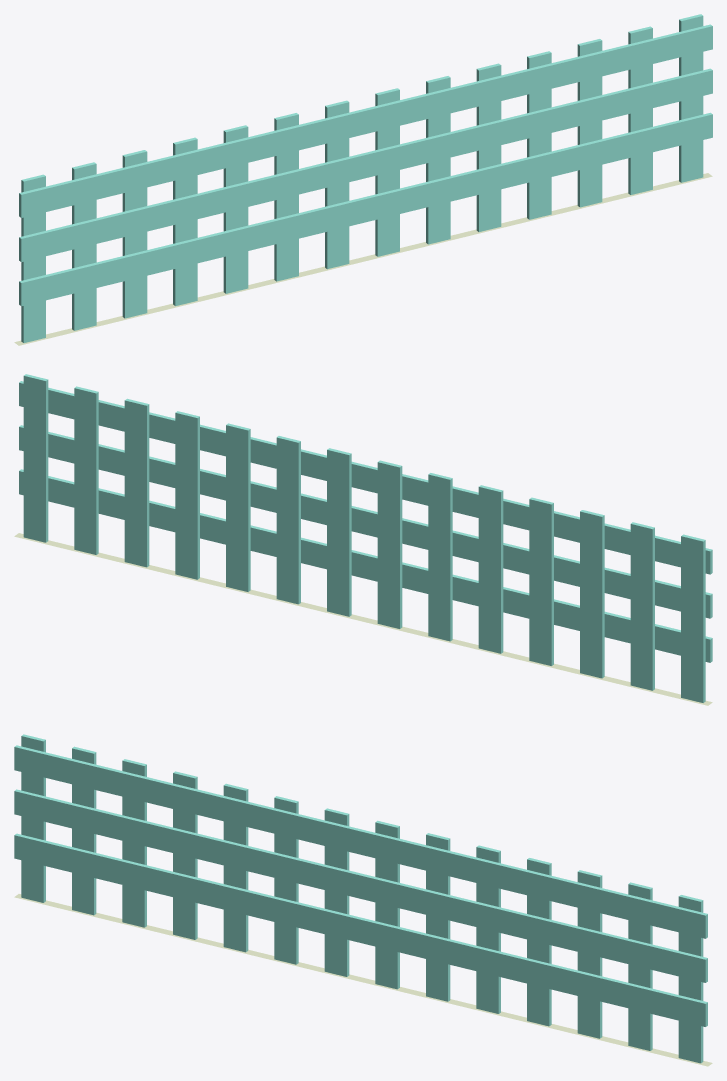
Rendered from Fence.fbx.
The picture shows the model from 3 angles, top to bottom: view 1: azimuth 30°, elevation 25°; view 2: azimuth 150°, elevation 25°; view 3: azimuth 330°, elevation 25°; orthographic projection.
Visible parts, largest first — view 1: Box16, Box17, Box15, Plane02, Box10, Box12, Box03, Box05, Box02, Box11, Box07, Box06 (+6 smaller); view 2: Box16, Box15, Box17, Box12, Box07, Box14, Box05, Box03, Box08, Box13, Box02, Box11 (+6 smaller); view 3: Box15, Box16, Box17, Plane02, Box05, Box14, Box07, Box12, Box04, Box08, Box10, Box13 (+6 smaller).
Boxes of the visible parts, bbox=[...] form: Box16: bbox=[19, 68, 712, 262]; Box17: bbox=[19, 112, 712, 306]; Box15: bbox=[19, 24, 712, 217]; Plane02: bbox=[14, 173, 712, 345]; Box10: bbox=[476, 63, 501, 231]; Box12: bbox=[577, 39, 602, 207]; Box03: bbox=[122, 150, 147, 318]; Box05: bbox=[223, 125, 248, 293]; Box02: bbox=[72, 162, 96, 330]; Box11: bbox=[527, 51, 551, 219]; Box07: bbox=[325, 100, 349, 269]; Box06: bbox=[274, 113, 298, 281]; Box16: bbox=[19, 425, 712, 618]; Box15: bbox=[19, 381, 712, 574]; Box17: bbox=[19, 469, 712, 662]; Box12: bbox=[124, 398, 149, 567]; Box07: bbox=[377, 460, 402, 628]; Box14: bbox=[23, 374, 48, 542]; Box05: bbox=[478, 485, 503, 653]; Box03: bbox=[580, 510, 604, 678]; Box08: bbox=[327, 448, 351, 616]; Box13: bbox=[74, 386, 98, 554]; Box02: bbox=[630, 522, 654, 690]; Box11: bbox=[175, 411, 199, 579]; Box15: bbox=[14, 745, 707, 938]; Box16: bbox=[14, 789, 707, 982]; Box17: bbox=[14, 833, 707, 1026]; Plane02: bbox=[14, 894, 712, 1066]; Box05: bbox=[223, 783, 248, 952]; Box14: bbox=[678, 895, 703, 1063]; Box07: bbox=[324, 808, 349, 976]; Box12: bbox=[577, 870, 602, 1038]; Box04: bbox=[173, 771, 197, 939]; Box08: bbox=[375, 820, 399, 989]; Box10: bbox=[476, 845, 500, 1013]; Box13: bbox=[628, 882, 652, 1050].
Size of the model in its own units: 10000 by 2228 by 150.
